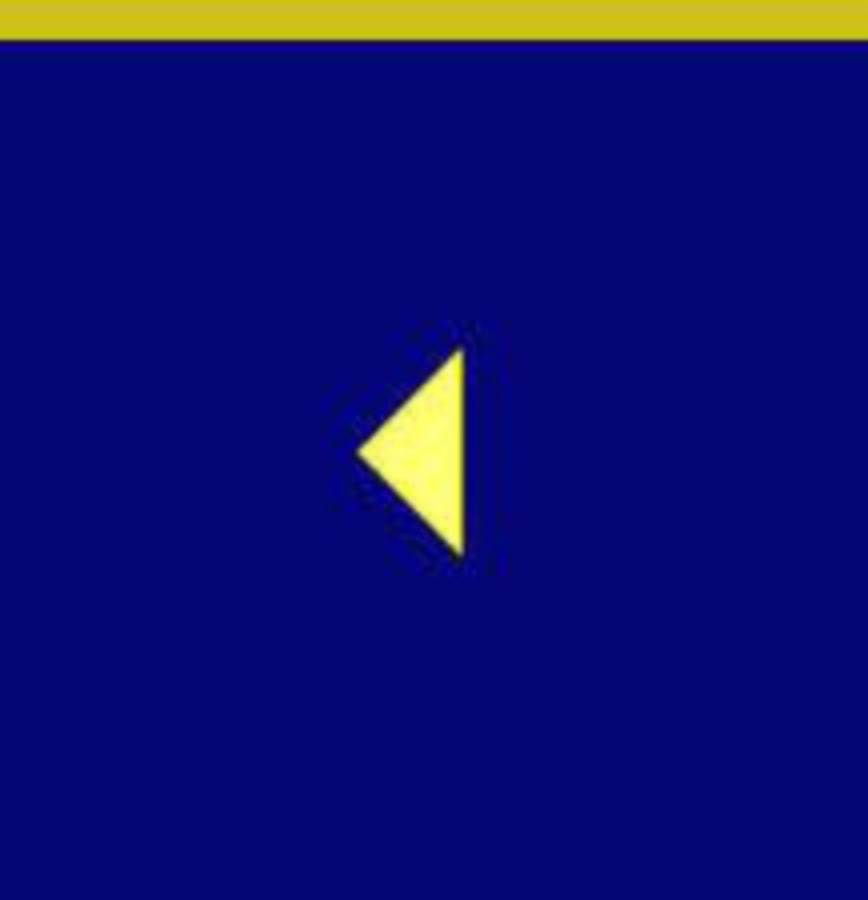ImgButton: (1, 1, 867, 899)
